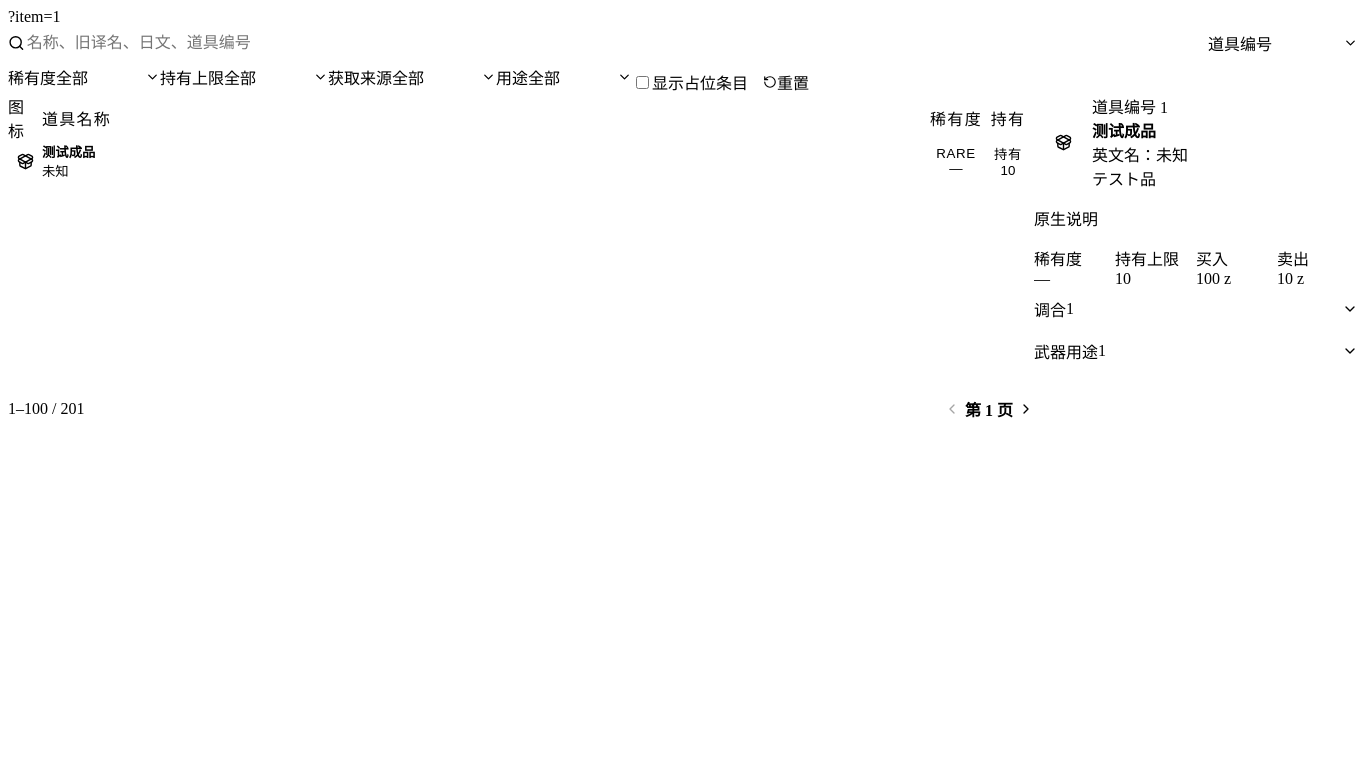
P2G shared item page › shows pending target details and Escape returns focus without nesting
Expected: the text "原生说明" is shown, [1034,211,1098,228]
Click the button "武器用途 1" at (1066, 352), box [1034,330,1358,372]
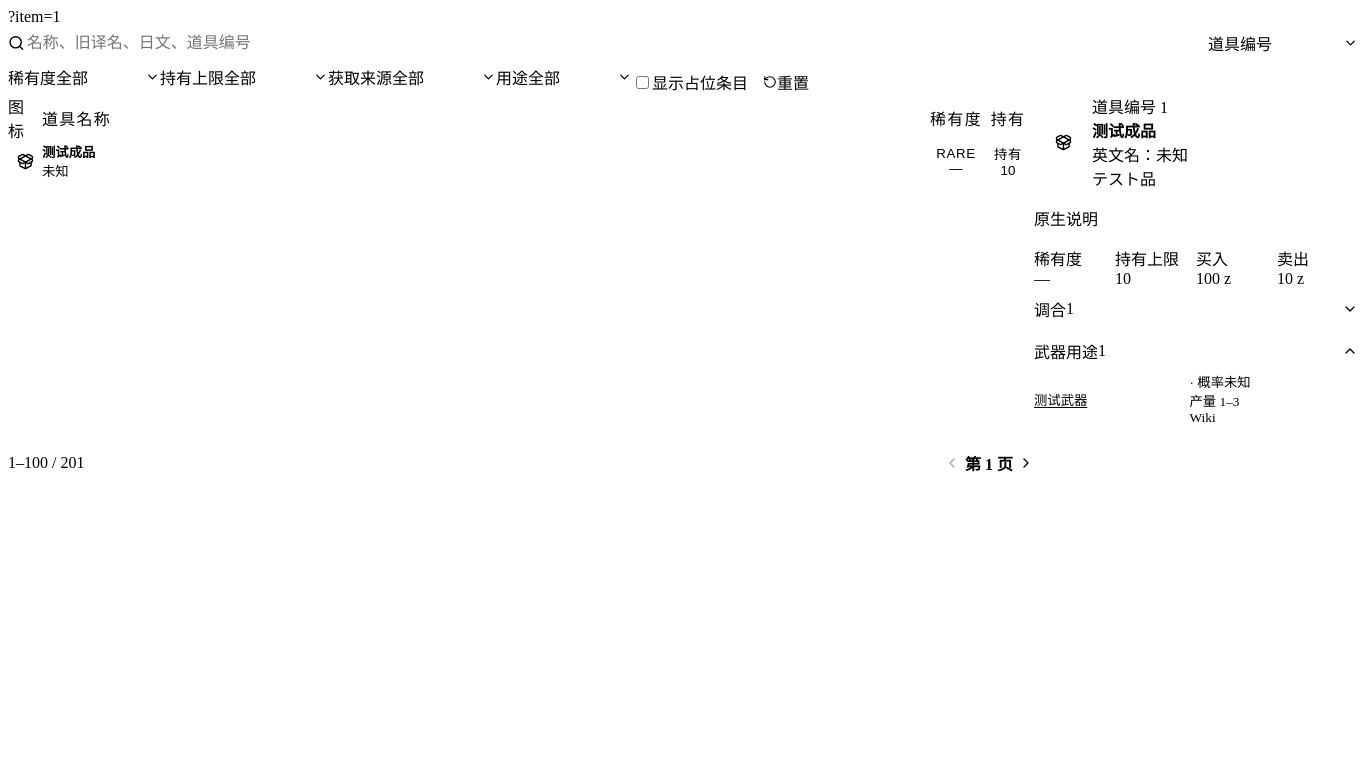
Click the button "测试武器" at (1061, 399), box [1034,372,1087,426]
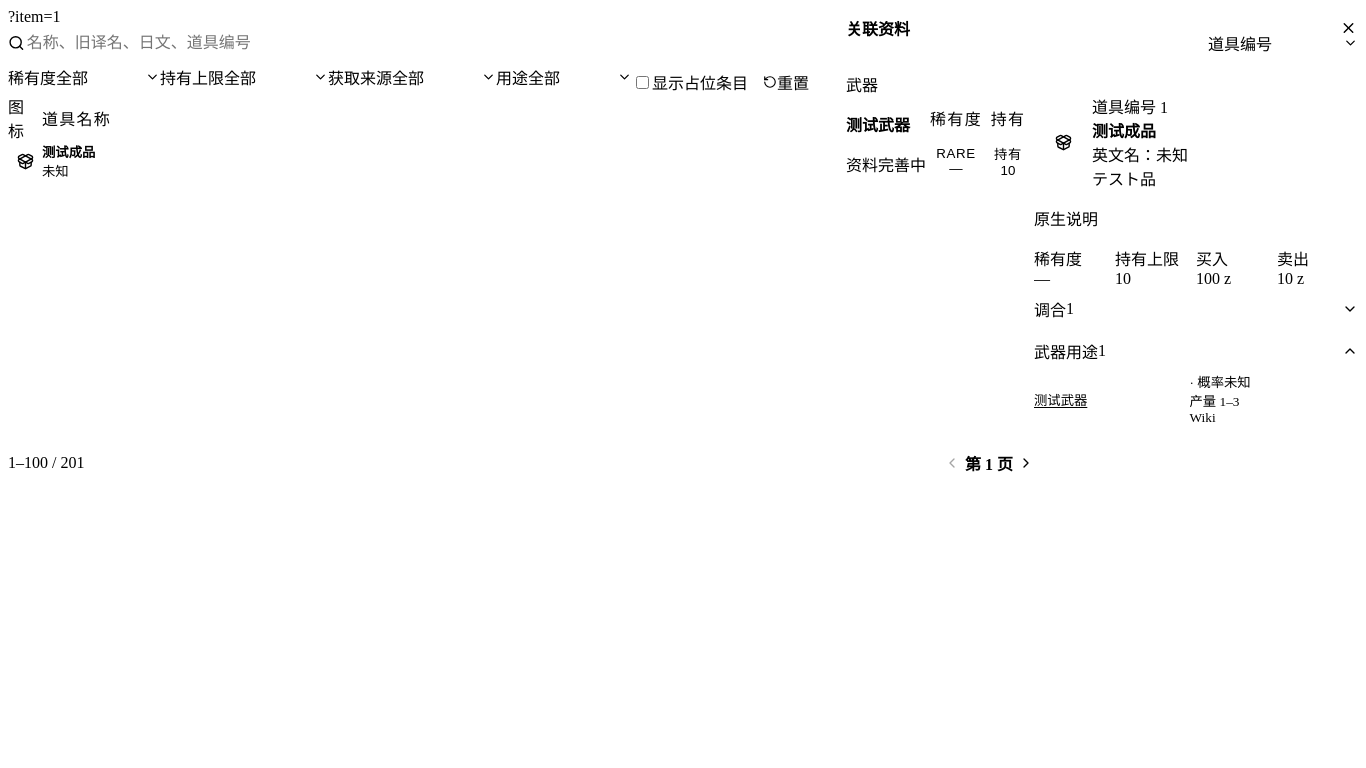
Expected: the text "资料完善中" is shown, [846,157,926,174]
Expected: the number of dialogs is 1, [846,10,1365,174]
Press Escape
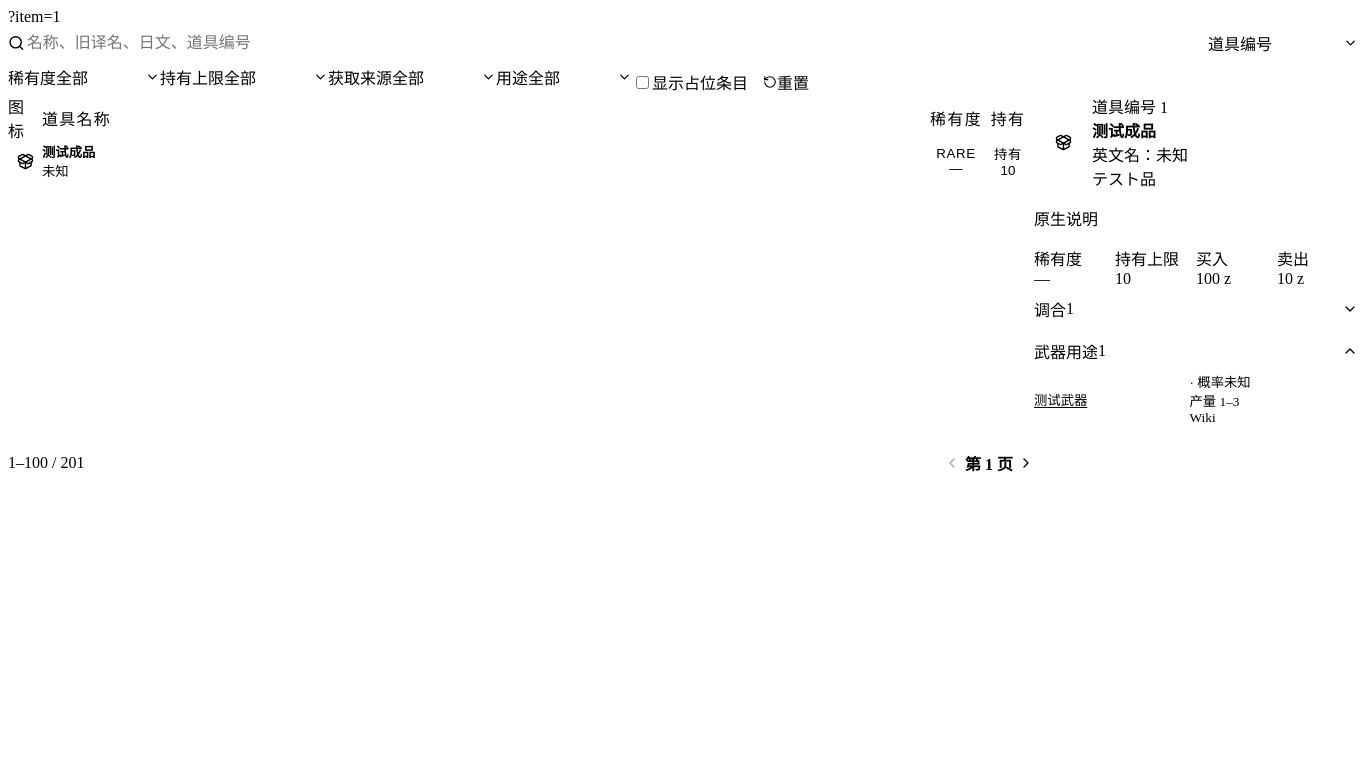
Expected: the dialog is gone
